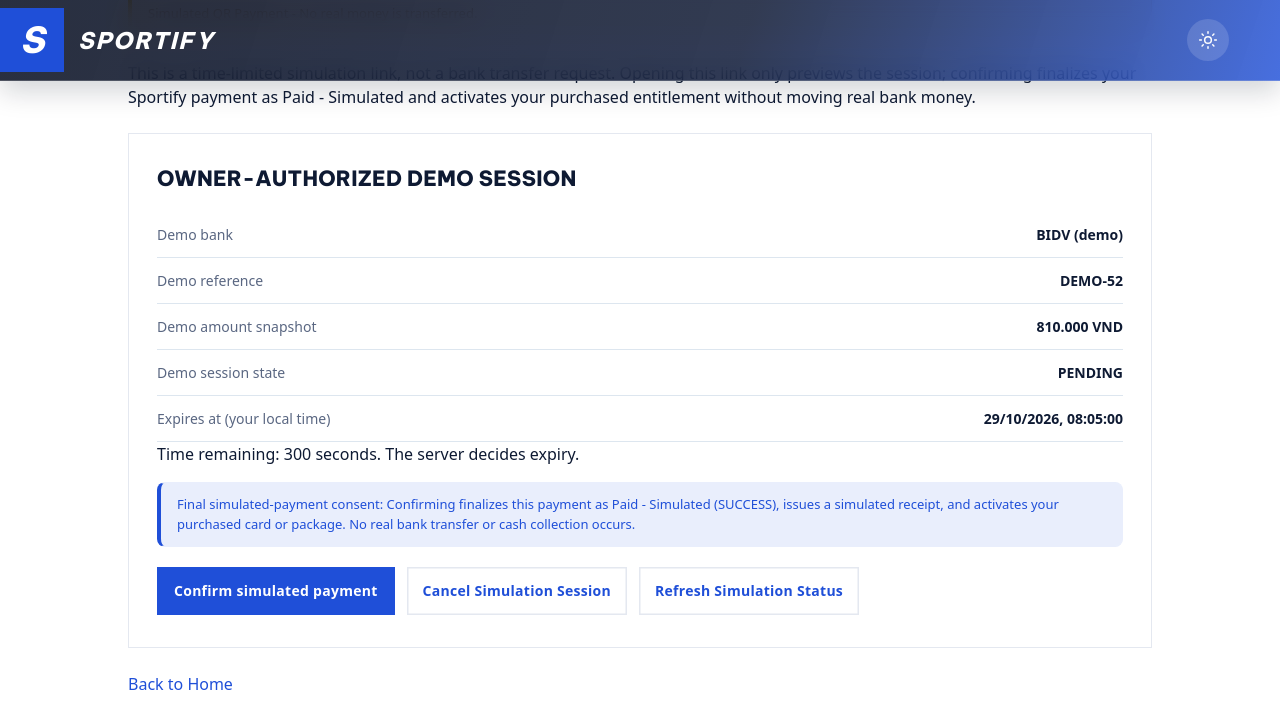
QR-04 owner-authorized mobile confirmation › confirms only on explicit consent via /confirm, settles in simulation and guards a second tap while the request is pending
(page scrolled)
Expected: the text "Final simulated-payment consent: Confirming finalizes this payment as Paid - Simulated (SUCCESS)" is shown, left=177, top=495, right=1059, bottom=533
Double-click the button "Confirm simulated payment".
double_click(276, 591)  # box left=157, top=567, right=394, bottom=615
(page scrolled)
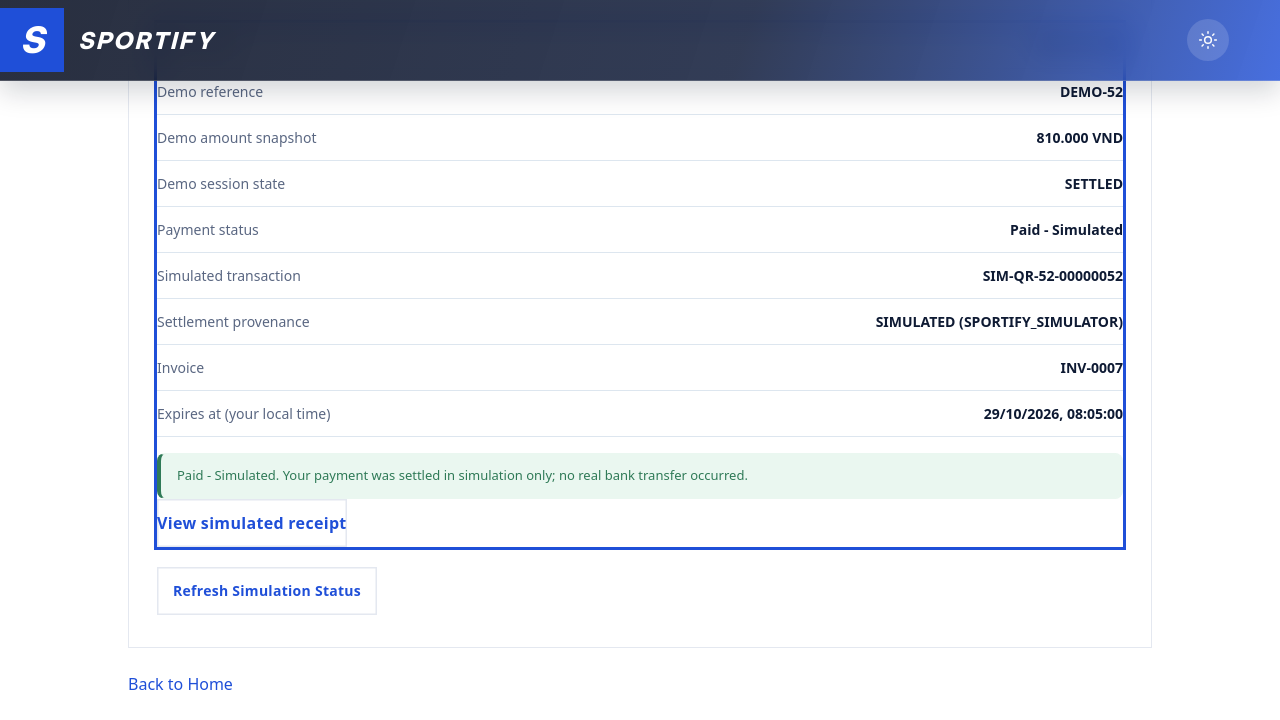
Now the text "Paid - Simulated. Your payment was settled in simulation only" is shown, box left=177, top=466, right=748, bottom=484
Now the text "SIM-QR-52-00000052" is shown, box left=983, top=265, right=1123, bottom=286
Now the text "SIMULATED (SPORTIFY_SIMULATOR)" is shown, box left=876, top=311, right=1123, bottom=332
